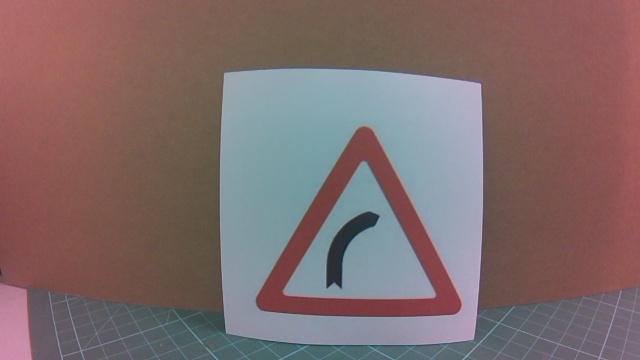right: (247, 153, 455, 321)
